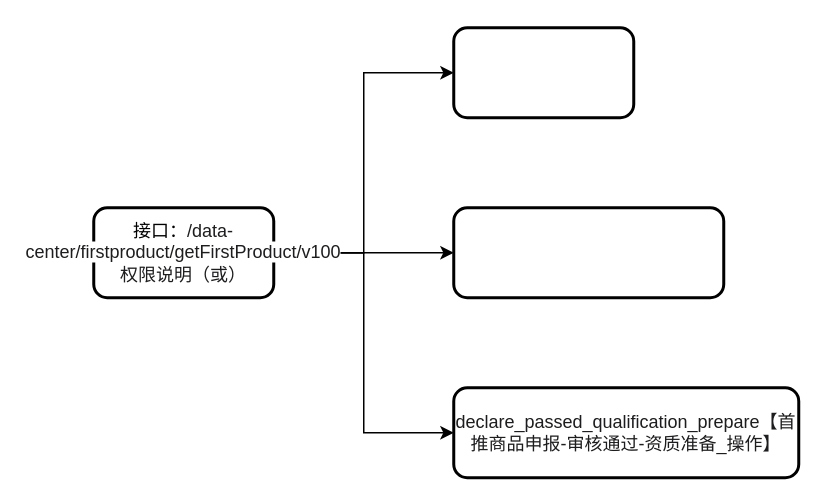
The diagram is 825 pixels wide and 504 high, and some of its shapes have lost their labels. The shapes that lost their labels are listed below. From the top down, each one's centre as x and y in pixels, then its label:
point (543, 72): first_product_list【商品资料-首推商品资料】
point (588, 252): introducer_product_declare_new【首推商品申报-审核中-普通申报】
